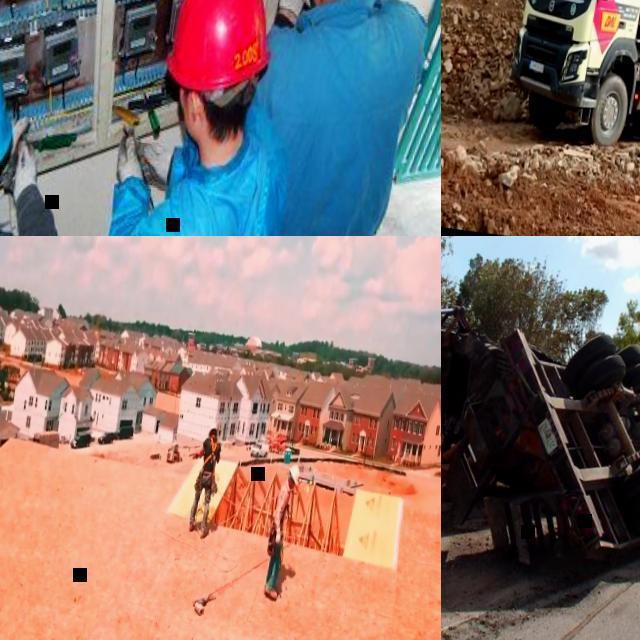helmet: (162, 0, 283, 101), (287, 465, 300, 486), (208, 424, 218, 438)
